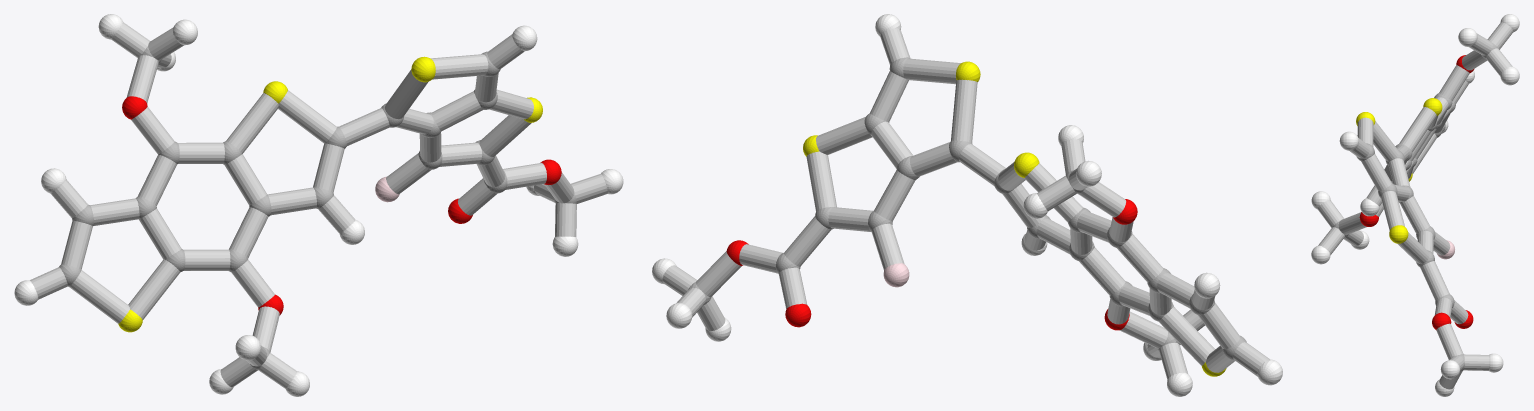
File: color.glb
The picture shows the model from 3 angles, left to right: view 1: azimuth 30°, elevation 25°; view 2: azimuth 150°, elevation 25°; view 3: azimuth 270°, elevation 25°; orthographic projection. The views are drawn at different scales.
Parts seen in each view (by area): view 1: grp15205, grp8689, grp1, grp7241, grp13395; view 2: grp15205, grp8689, grp1, grp13395, grp7241; view 3: grp15205, grp8689, grp1, grp7241, grp13395.
Part boxes in pixels (<box>): grp15205: <box>30,22,607,388</box>; grp8689: <box>14,14,623,396</box>; grp1: <box>59,45,576,369</box>; grp7241: <box>118,56,542,332</box>; grp13395: <box>122,96,561,315</box>; grp15205: <box>662,28,1269,379</box>; grp8689: <box>652,14,1282,396</box>; grp1: <box>688,57,1246,360</box>; grp13395: <box>726,199,1137,330</box>; grp7241: <box>803,61,1226,376</box>; grp15205: <box>1317,22,1513,389</box>; grp8689: <box>1311,14,1519,396</box>; grp1: <box>1333,43,1497,371</box>; grp7241: <box>1356,98,1442,243</box>; grp13395: <box>1359,55,1474,329</box>.
Bounding box in the file's own units: 16.52 × 8.04 × 6.49.
